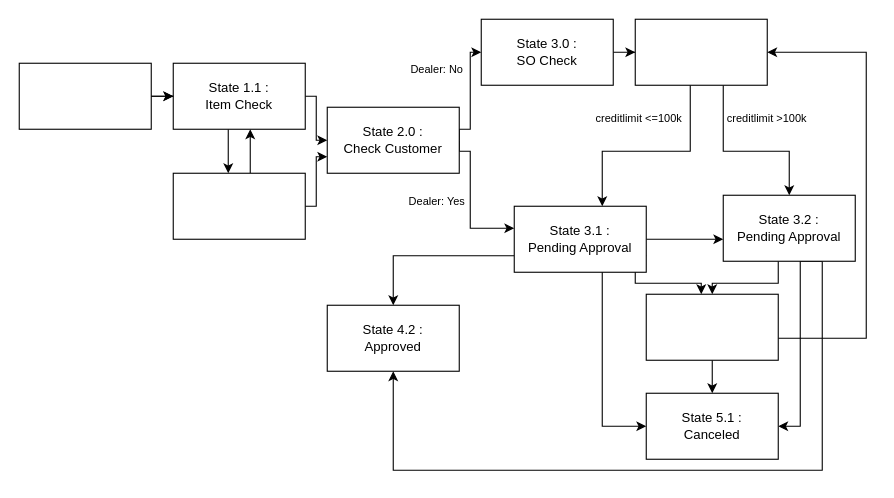
The diagram is 894 pixels wide and 498 high, and some of its shapes have lost their labels. The box of each missing label's shape, as (x1, y1, x2, y2) in pixels:
State 0 : Initiation: (18, 62, 151, 129)
State 1.2 : MCO Price Approve: (172, 172, 305, 239)
State 2.1 : Assign Approval: (634, 18, 767, 85)
State 4.1 : Rejected: (645, 293, 778, 360)
